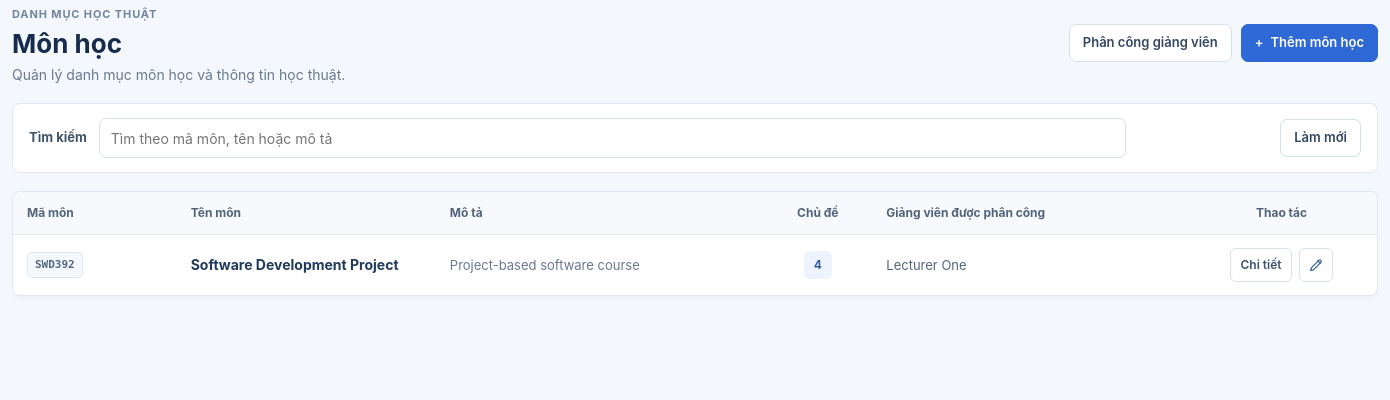
it: SubjectsPage › debounces keyword changes and sends the search to the backend
Expected: the text "SWD392" is shown, 27,252 -> 83,278
Type "S" into the search field. click: (612, 138)
box: 99,118 -> 1126,158
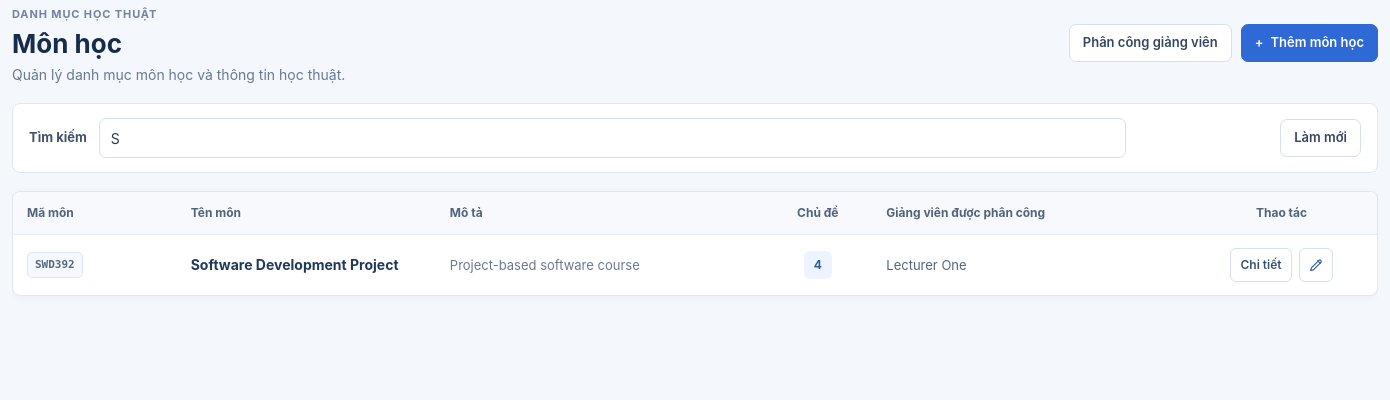
Replace the text in the search field with "SWD". click: (612, 138)
box: 99,118 -> 1126,158
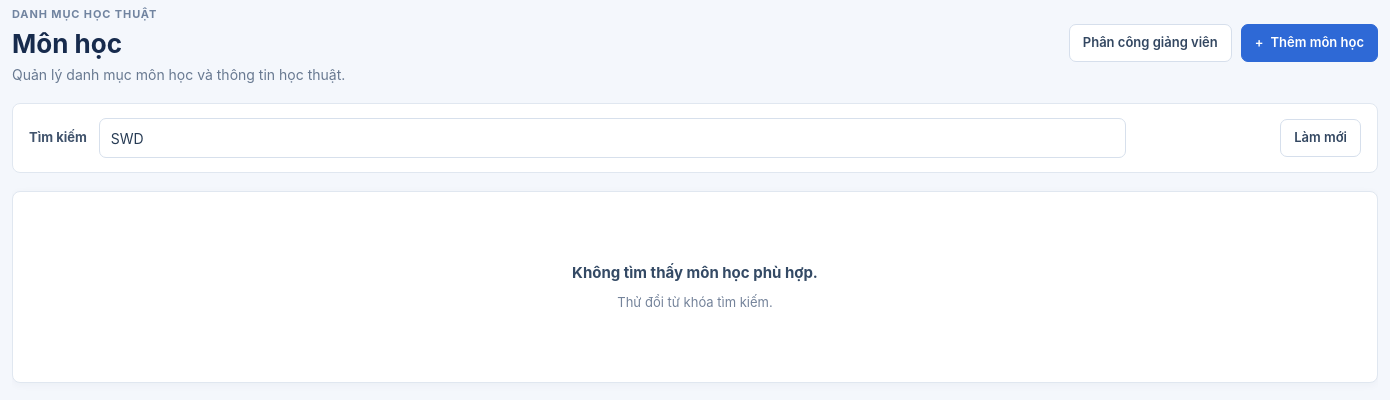
Expected: the text "Không tìm thấy môn học phù hợp." is shown, 572,262 -> 818,285
